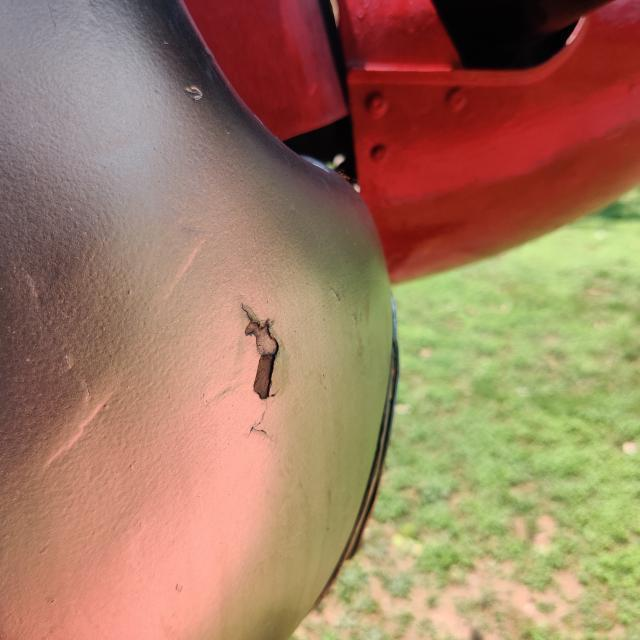Paint-off: (242, 305, 279, 400)
